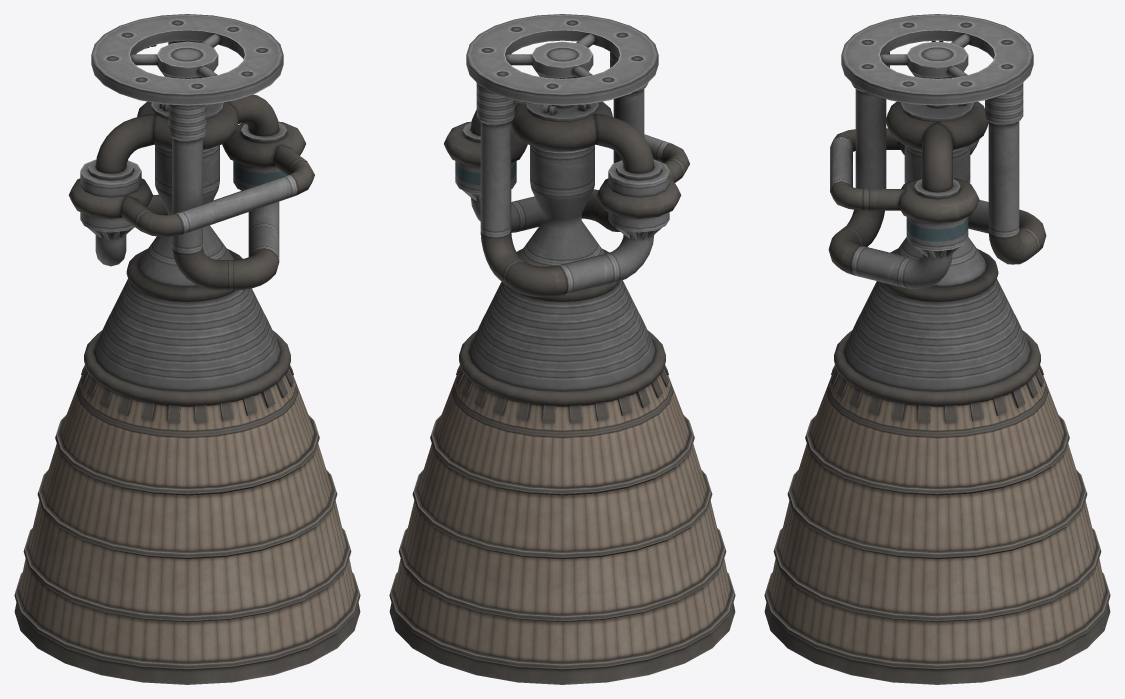
3 views of the same model, side by side, from view 1: azimuth 30°, elevation 25°; view 2: azimuth 150°, elevation 25°; view 3: azimuth 270°, elevation 25° (orthographic).
Visible parts, largest first — view 1: le7, base; view 2: le7, base; view 3: le7, base.
Part boxes in pixels (box(x1,y1,x2,y2)): le7: box(14, 40, 360, 684); base: box(91, 14, 283, 105); le7: box(389, 51, 735, 684); base: box(466, 14, 658, 105); le7: box(764, 51, 1110, 684); base: box(841, 14, 1033, 105).
Size of the model in its own units: 1.13 by 2 by 1.13.
2 materials, 2 textured.
